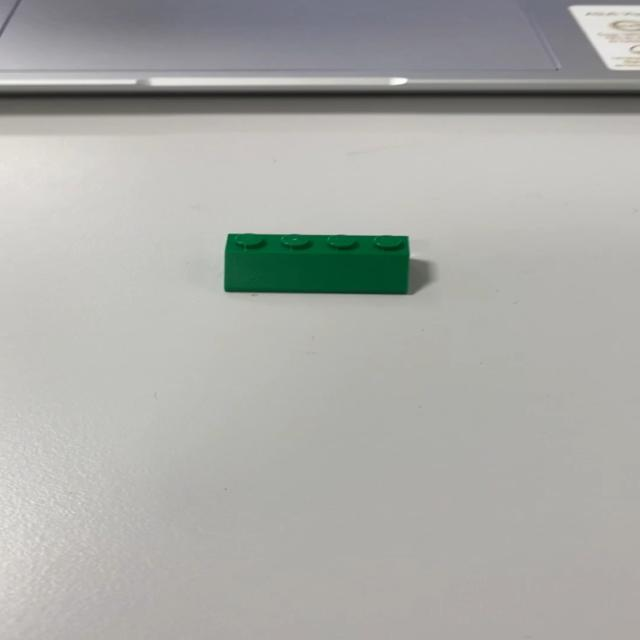P4x2x1: (223, 231, 412, 294)
